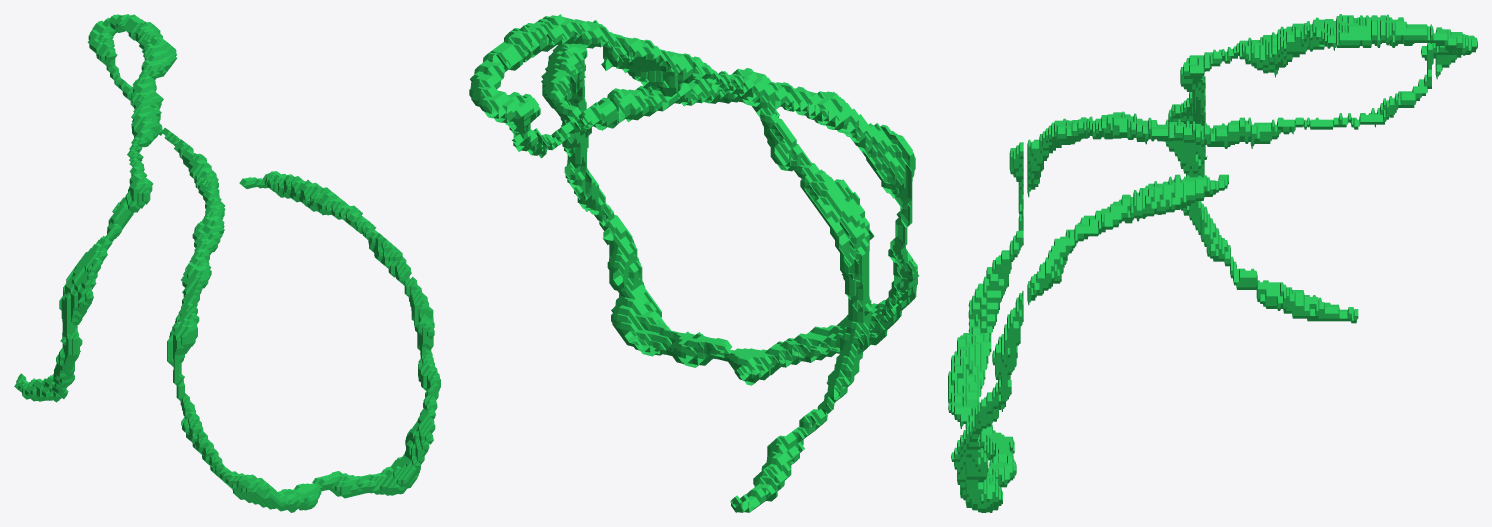
Rendered from SVV_RIAR_t0.obj.
3 renders of one model, left to right at view 1: azimuth 30°, elevation 25°; view 2: azimuth 150°, elevation 25°; view 3: azimuth 270°, elevation 25°, orthographic. The views are drawn at different scales.
Parts seen in each view (by area): view 1: RIAR; view 2: RIAR; view 3: RIAR.
Part boxes in pixels (box(x1,y1,x2,y2)): RIAR: box(14, 14, 440, 512); RIAR: box(469, 14, 919, 512); RIAR: box(948, 14, 1477, 512).
Bounding box in the file's own units: 710 × 850 × 910.
